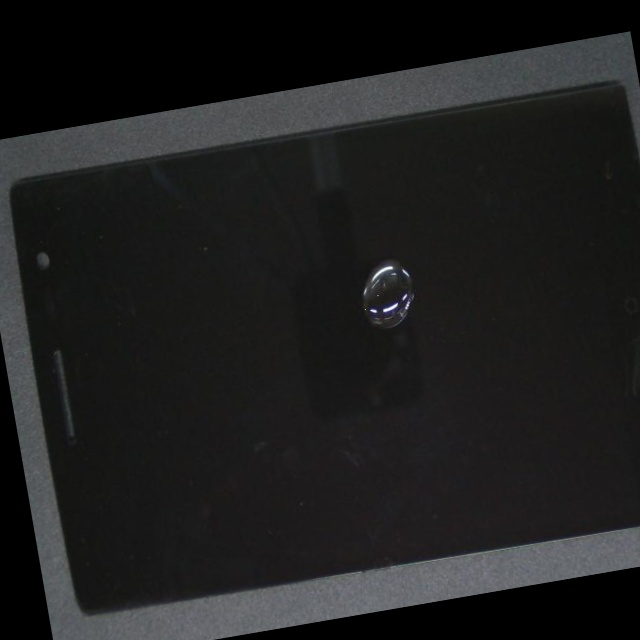oil: (158, 150, 554, 441)
